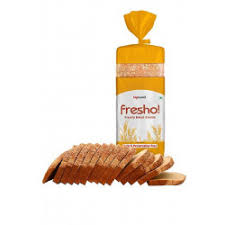bread: (102, 11, 174, 152), (43, 133, 186, 192)
